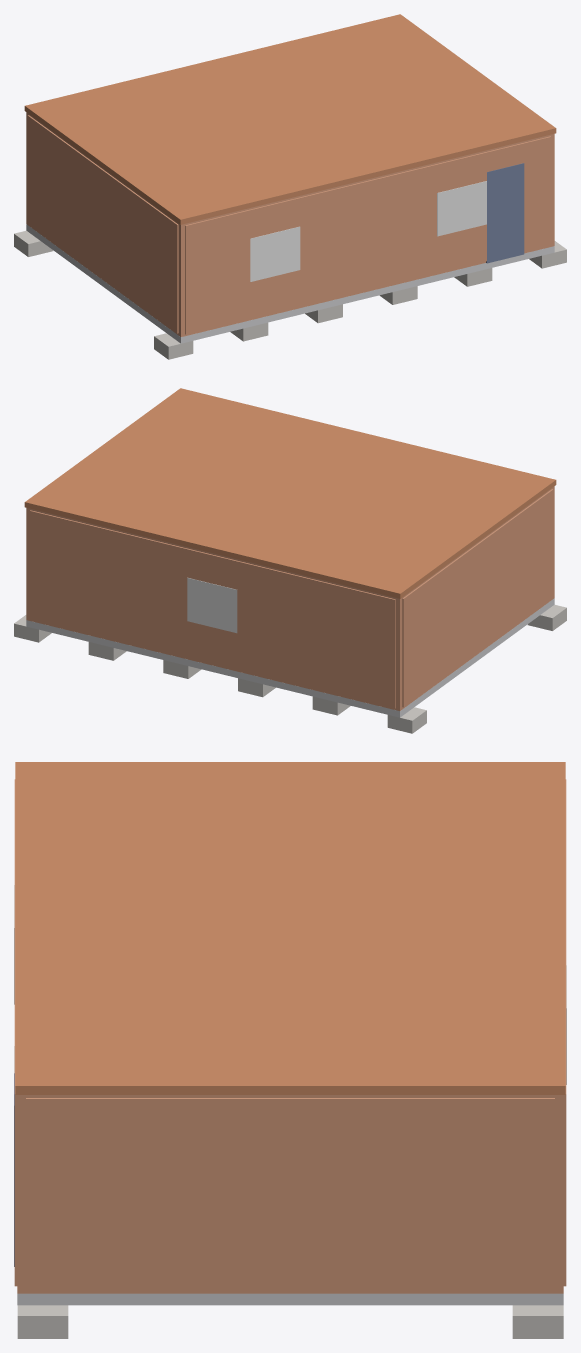
Rendered from Studio-30-Base-Terracotta-LOD2.glb.
3 views of the same model, one above another, from view 1: azimuth 30°, elevation 25°; view 2: azimuth 150°, elevation 25°; view 3: azimuth 270°, elevation 25° (orthographic). The views are drawn at different scales.
Visible parts, largest first — view 1: RoofMain, ExteriorPanelsStandard, WindowsStandard, BaseFrame, FoundationBlocks, ExteriorShell, EntryDoor; view 2: RoofMain, ExteriorPanelsStandard, BaseFrame, ExteriorShell, FoundationBlocks, WindowsStandard; view 3: RoofMain, ExteriorPanelsStandard, BaseFrame, ExteriorShell, FoundationBlocks.
Part boxes in pixels (bbox=[...]): RoofMain: bbox=[24, 14, 556, 224]; ExteriorPanelsStandard: bbox=[27, 115, 550, 334]; WindowsStandard: bbox=[250, 181, 486, 281]; BaseFrame: bbox=[26, 224, 554, 343]; FoundationBlocks: bbox=[14, 230, 566, 359]; ExteriorShell: bbox=[26, 112, 554, 336]; EntryDoor: bbox=[486, 163, 524, 263]; RoofMain: bbox=[24, 388, 556, 598]; ExteriorPanelsStandard: bbox=[30, 489, 553, 708]; BaseFrame: bbox=[26, 598, 554, 717]; ExteriorShell: bbox=[26, 486, 554, 710]; FoundationBlocks: bbox=[14, 604, 566, 733]; WindowsStandard: bbox=[187, 577, 237, 633]; RoofMain: bbox=[15, 762, 565, 1094]; ExteriorPanelsStandard: bbox=[14, 779, 566, 1290]; BaseFrame: bbox=[17, 1293, 563, 1305]; ExteriorShell: bbox=[17, 1095, 563, 1293]; FoundationBlocks: bbox=[17, 1305, 563, 1338].
Bounding box in the file's own units: 9.6 × 3.17 × 6.53.
